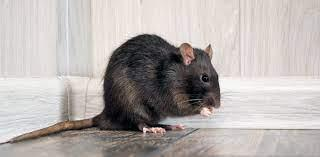rat: (10, 31, 222, 145)
